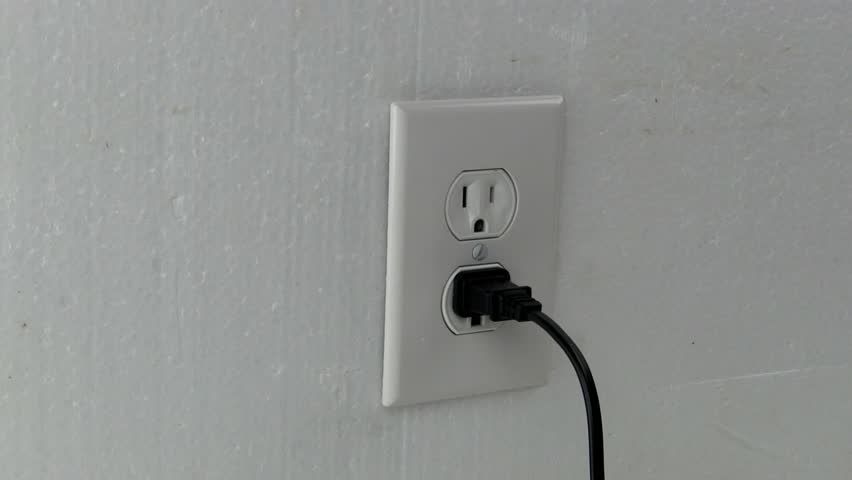outlet: (444, 173, 520, 244)
